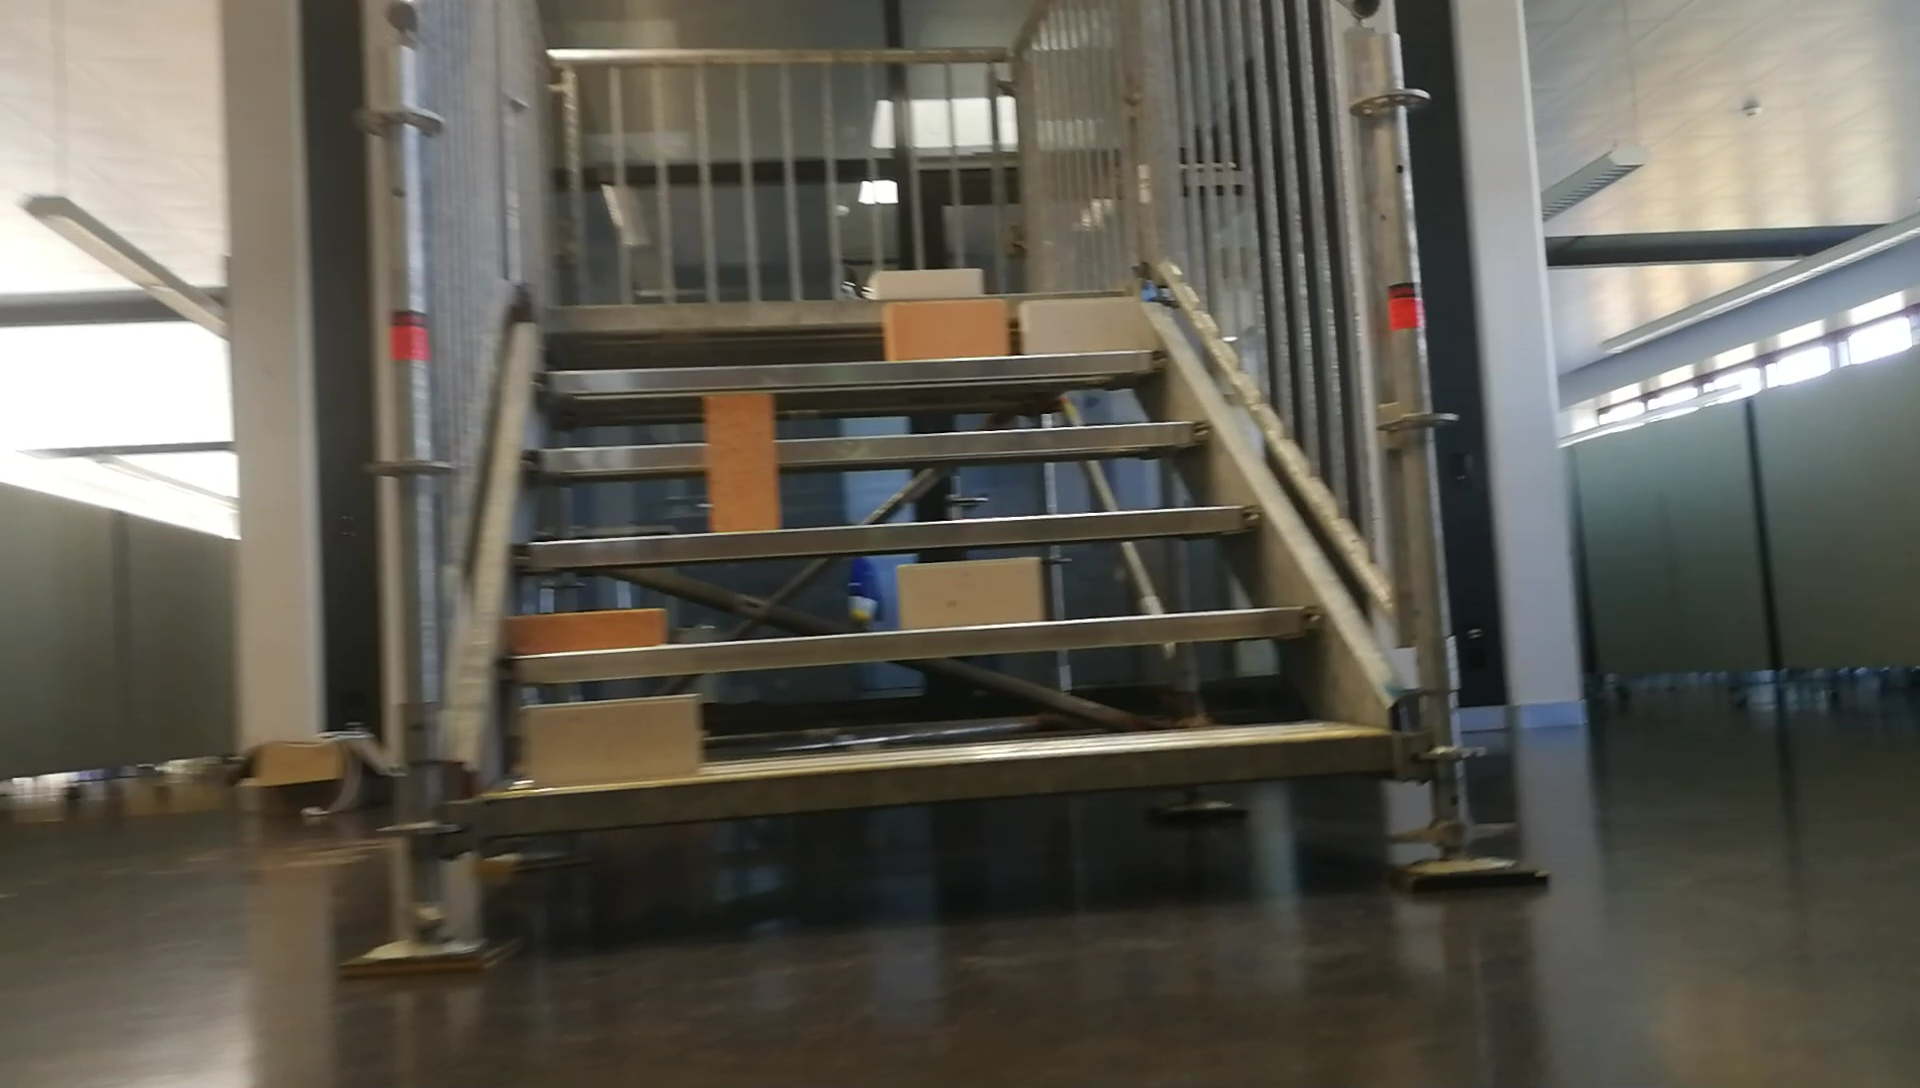brick: (527, 692, 698, 782), (899, 560, 1036, 630), (705, 393, 775, 530), (882, 302, 1007, 359), (502, 607, 665, 650), (1022, 298, 1141, 351), (873, 268, 978, 295)
edge: (480, 735, 1399, 830), (497, 599, 1323, 684), (510, 502, 1262, 572), (521, 415, 1216, 473), (527, 346, 1170, 396), (545, 298, 1138, 326)
stairs: (334, 8, 1545, 971)
steps: (471, 256, 1418, 868)
